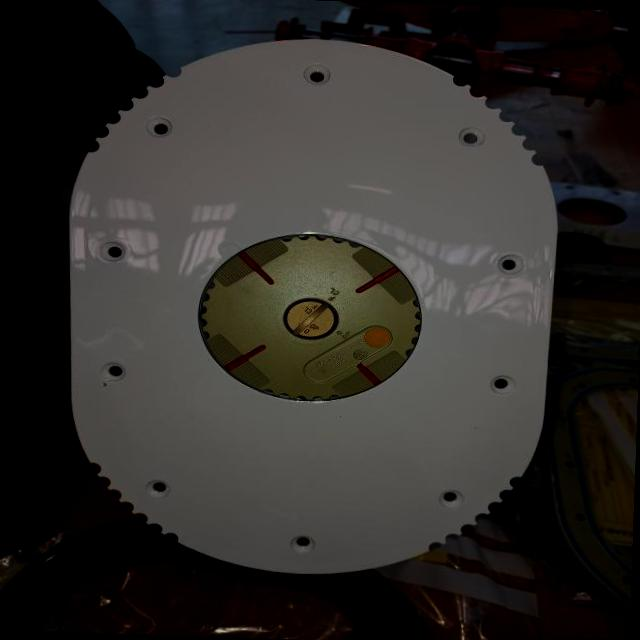Missing Fastener: (477, 245, 538, 282), (86, 234, 142, 268), (443, 119, 498, 151), (296, 54, 338, 90), (92, 356, 134, 390), (431, 479, 474, 510), (284, 530, 324, 558), (138, 474, 176, 501), (143, 111, 176, 140), (483, 372, 521, 397)
